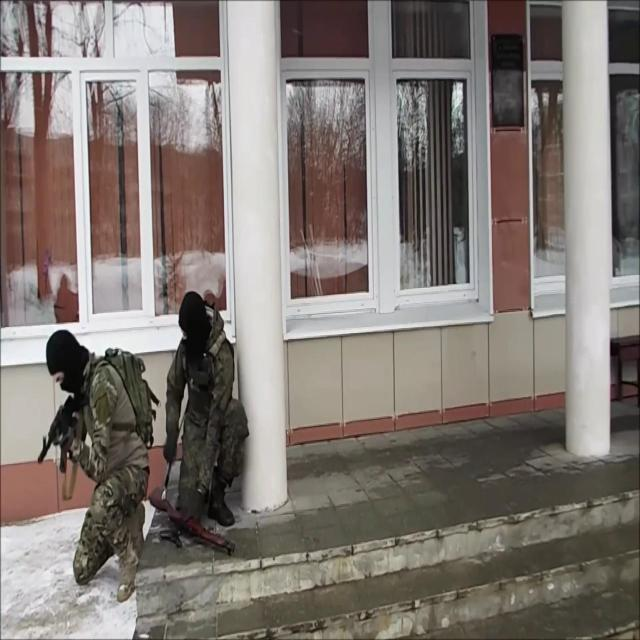pistol: (149, 486, 236, 558), (37, 390, 84, 472), (159, 524, 184, 552)
